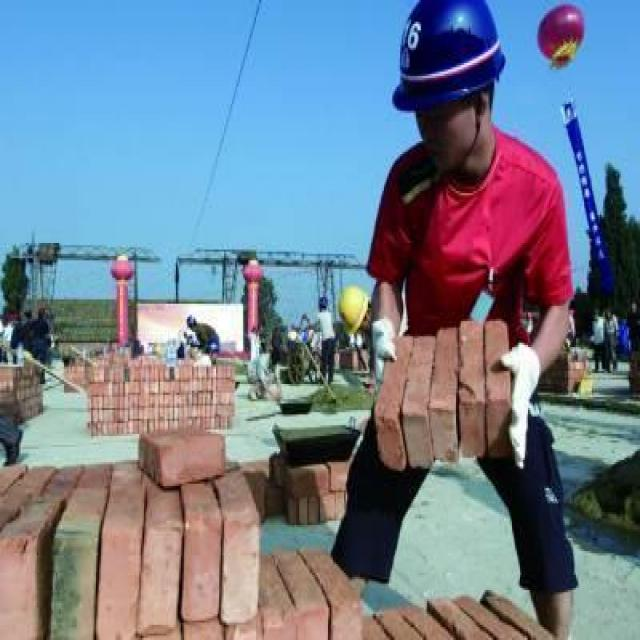gloves: (499, 342, 541, 470), (371, 317, 396, 395)
hard-hat: (391, 0, 505, 111)
person: (330, 1, 578, 639)
